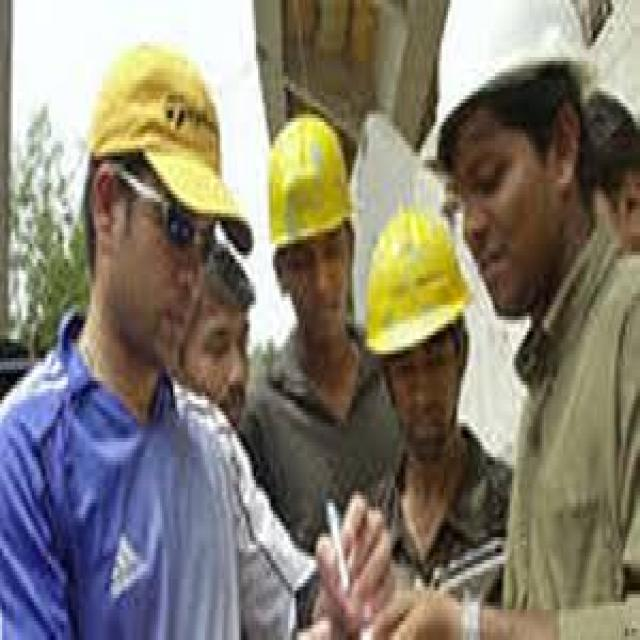Safety-Helmet: (424, 0, 614, 152), (356, 198, 478, 373), (262, 110, 360, 266)
